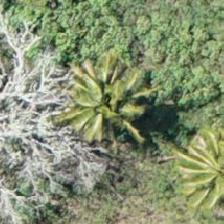coconut_tree: (57, 56, 147, 146), (169, 124, 223, 214)
